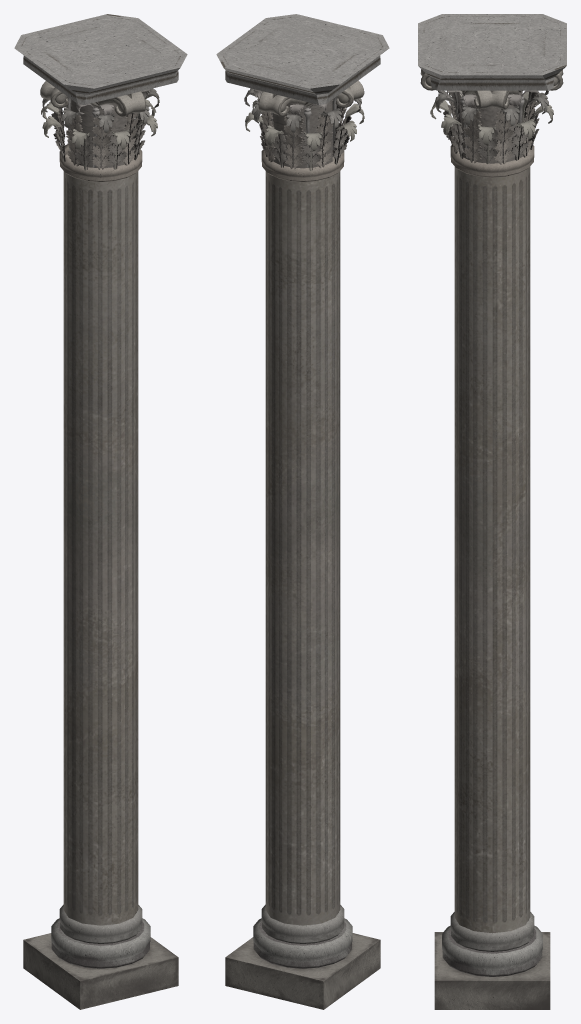
3 renders of one model, left to right at view 1: azimuth 30°, elevation 25°; view 2: azimuth 150°, elevation 25°; view 3: azimuth 270°, elevation 25°, orthographic.
Visible parts, largest first — view 1: filar_low, gorakolumny_low_glowica_0, podstawa_low, glowicaspod1_low_glowicaspod2_0, glowicaspod2_low_glowicaspod1_0, glowicaspod_low, cylinder_low, zawijas_low_zawijasy_0, zawijas2_low_zawijasy_0; view 2: filar_low, gorakolumny_low_glowica_0, podstawa_low, glowicaspod1_low_glowicaspod2_0, glowicaspod2_low_glowicaspod1_0, cylinder_low, glowicaspod_low, zawijas_low_zawijasy_0, zawijas2_low_zawijasy_0; view 3: filar_low, gorakolumny_low_glowica_0, podstawa_low, glowicaspod1_low_glowicaspod2_0, glowicaspod2_low_glowicaspod1_0, glowicaspod_low, cylinder_low, zawijas2_low_zawijasy_0.
Boxes of the visible parts, <box> form: filar_low: <box>63,171,138,925</box>; gorakolumny_low_glowica_0: <box>14,14,187,104</box>; podstawa_low: <box>23,933,178,1009</box>; glowicaspod1_low_glowicaspod2_0: <box>51,918,150,968</box>; glowicaspod2_low_glowicaspod1_0: <box>59,904,142,943</box>; glowicaspod_low: <box>59,144,142,181</box>; cylinder_low: <box>71,94,128,168</box>; zawijas_low_zawijasy_0: <box>98,91,145,116</box>; zawijas2_low_zawijasy_0: <box>40,81,99,108</box>; filar_low: <box>265,171,340,925</box>; gorakolumny_low_glowica_0: <box>216,14,389,104</box>; podstawa_low: <box>225,933,380,1009</box>; glowicaspod1_low_glowicaspod2_0: <box>253,918,352,968</box>; glowicaspod2_low_glowicaspod1_0: <box>261,904,344,943</box>; cylinder_low: <box>273,94,332,168</box>; glowicaspod_low: <box>261,149,344,181</box>; zawijas_low_zawijasy_0: <box>258,91,305,116</box>; zawijas2_low_zawijasy_0: <box>305,80,364,107</box>; filar_low: <box>454,166,530,933</box>; gorakolumny_low_glowica_0: <box>418,14,566,90</box>; podstawa_low: <box>434,932,550,1009</box>; glowicaspod1_low_glowicaspod2_0: <box>442,925,542,976</box>; glowicaspod2_low_glowicaspod1_0: <box>450,912,534,951</box>; glowicaspod_low: <box>450,141,534,177</box>; cylinder_low: <box>462,90,522,163</box>; zawijas2_low_zawijasy_0: <box>463,90,520,109</box>.
Bounding box in the file's own units: 0.7724 × 5.52 × 0.7907.
14 materials, 14 textured.
